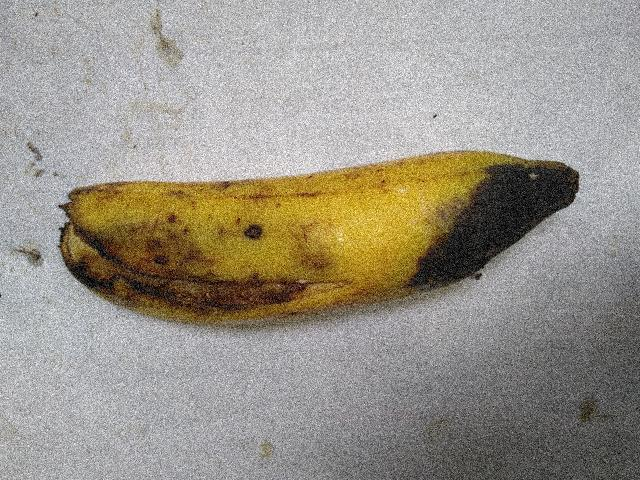rotten: (45, 179, 362, 349), (381, 105, 579, 327)
